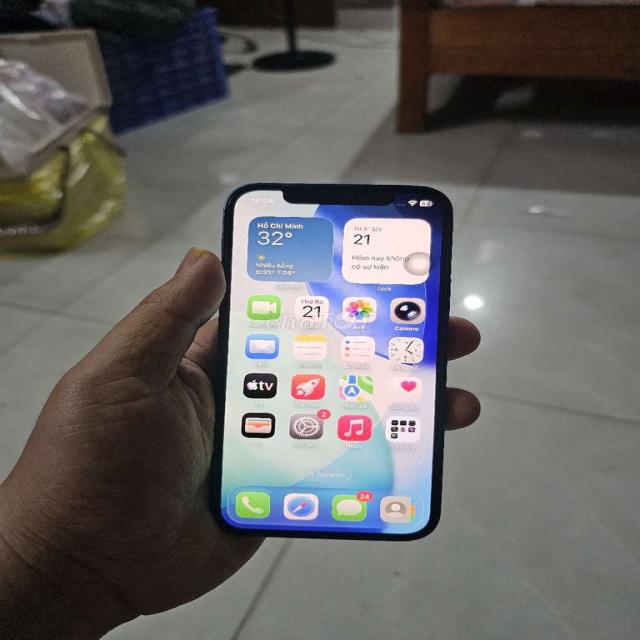gen_12_13: (213, 174, 455, 554)
